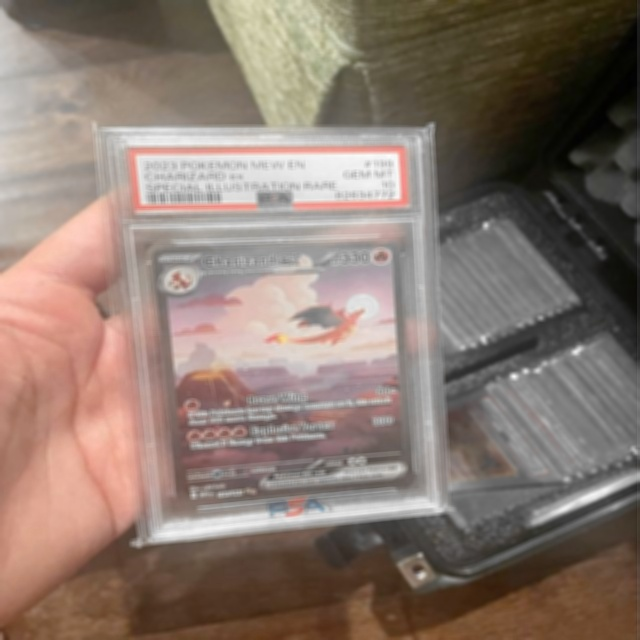card: (152, 240, 415, 508)
